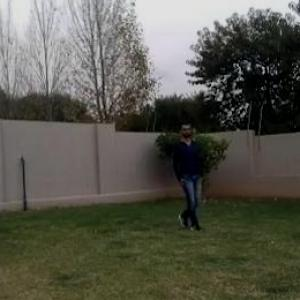follow: (175, 125, 203, 232)
